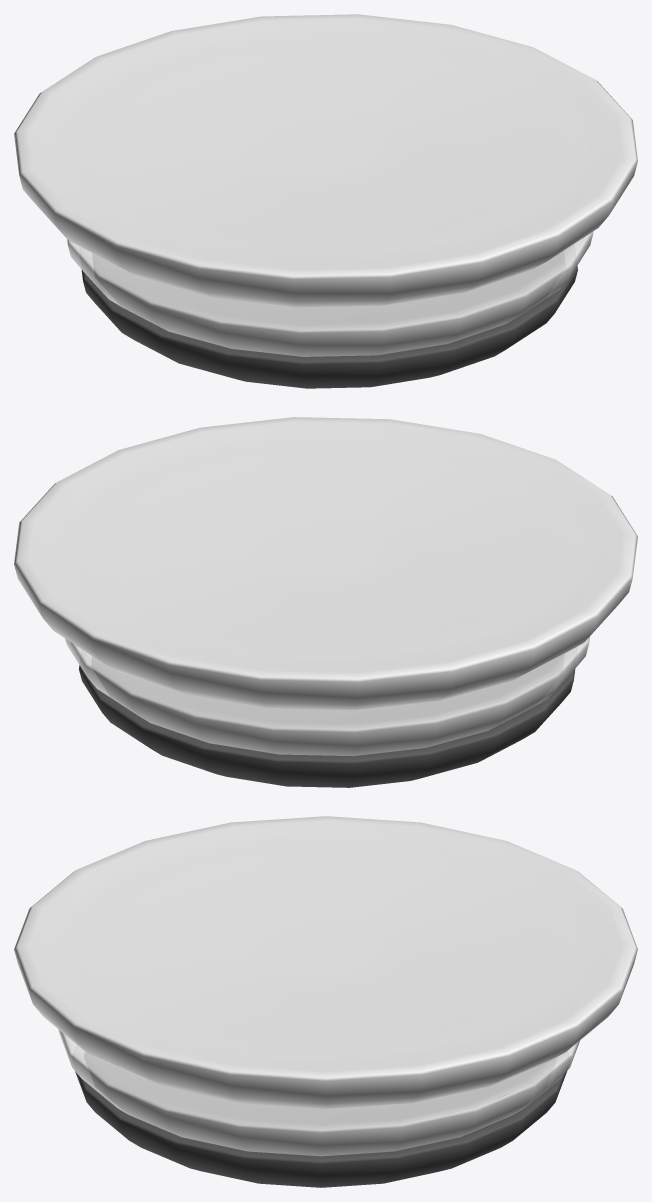
The model's file is camera_render.glb.
3 views of the same model, one above another, from view 1: azimuth 30°, elevation 25°; view 2: azimuth 150°, elevation 25°; view 3: azimuth 270°, elevation 25° (orthographic).
Parts seen in each view (by area): view 1: pSphere15, pSphere17, pSphere16; view 2: pSphere15, pSphere17, pSphere16; view 3: pSphere15, pSphere17, pSphere16.
Part boxes in pixels (x1,y1,x2,y2): pSphere15: (14,14,637,307); pSphere17: (81,251,577,388); pSphere16: (67,231,593,356); pSphere15: (14,417,637,709); pSphere17: (79,654,575,787); pSphere16: (65,636,589,756); pSphere15: (14,816,637,1108); pSphere17: (75,1052,566,1187); pSphere16: (58,1029,579,1156).
Bounding box in the file's own units: 32.8 × 10.86 × 32.8.
3 materials, 3 textured.
